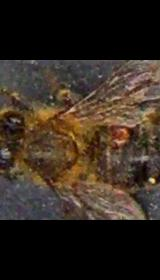varroa_mite: (103, 112, 132, 156)
